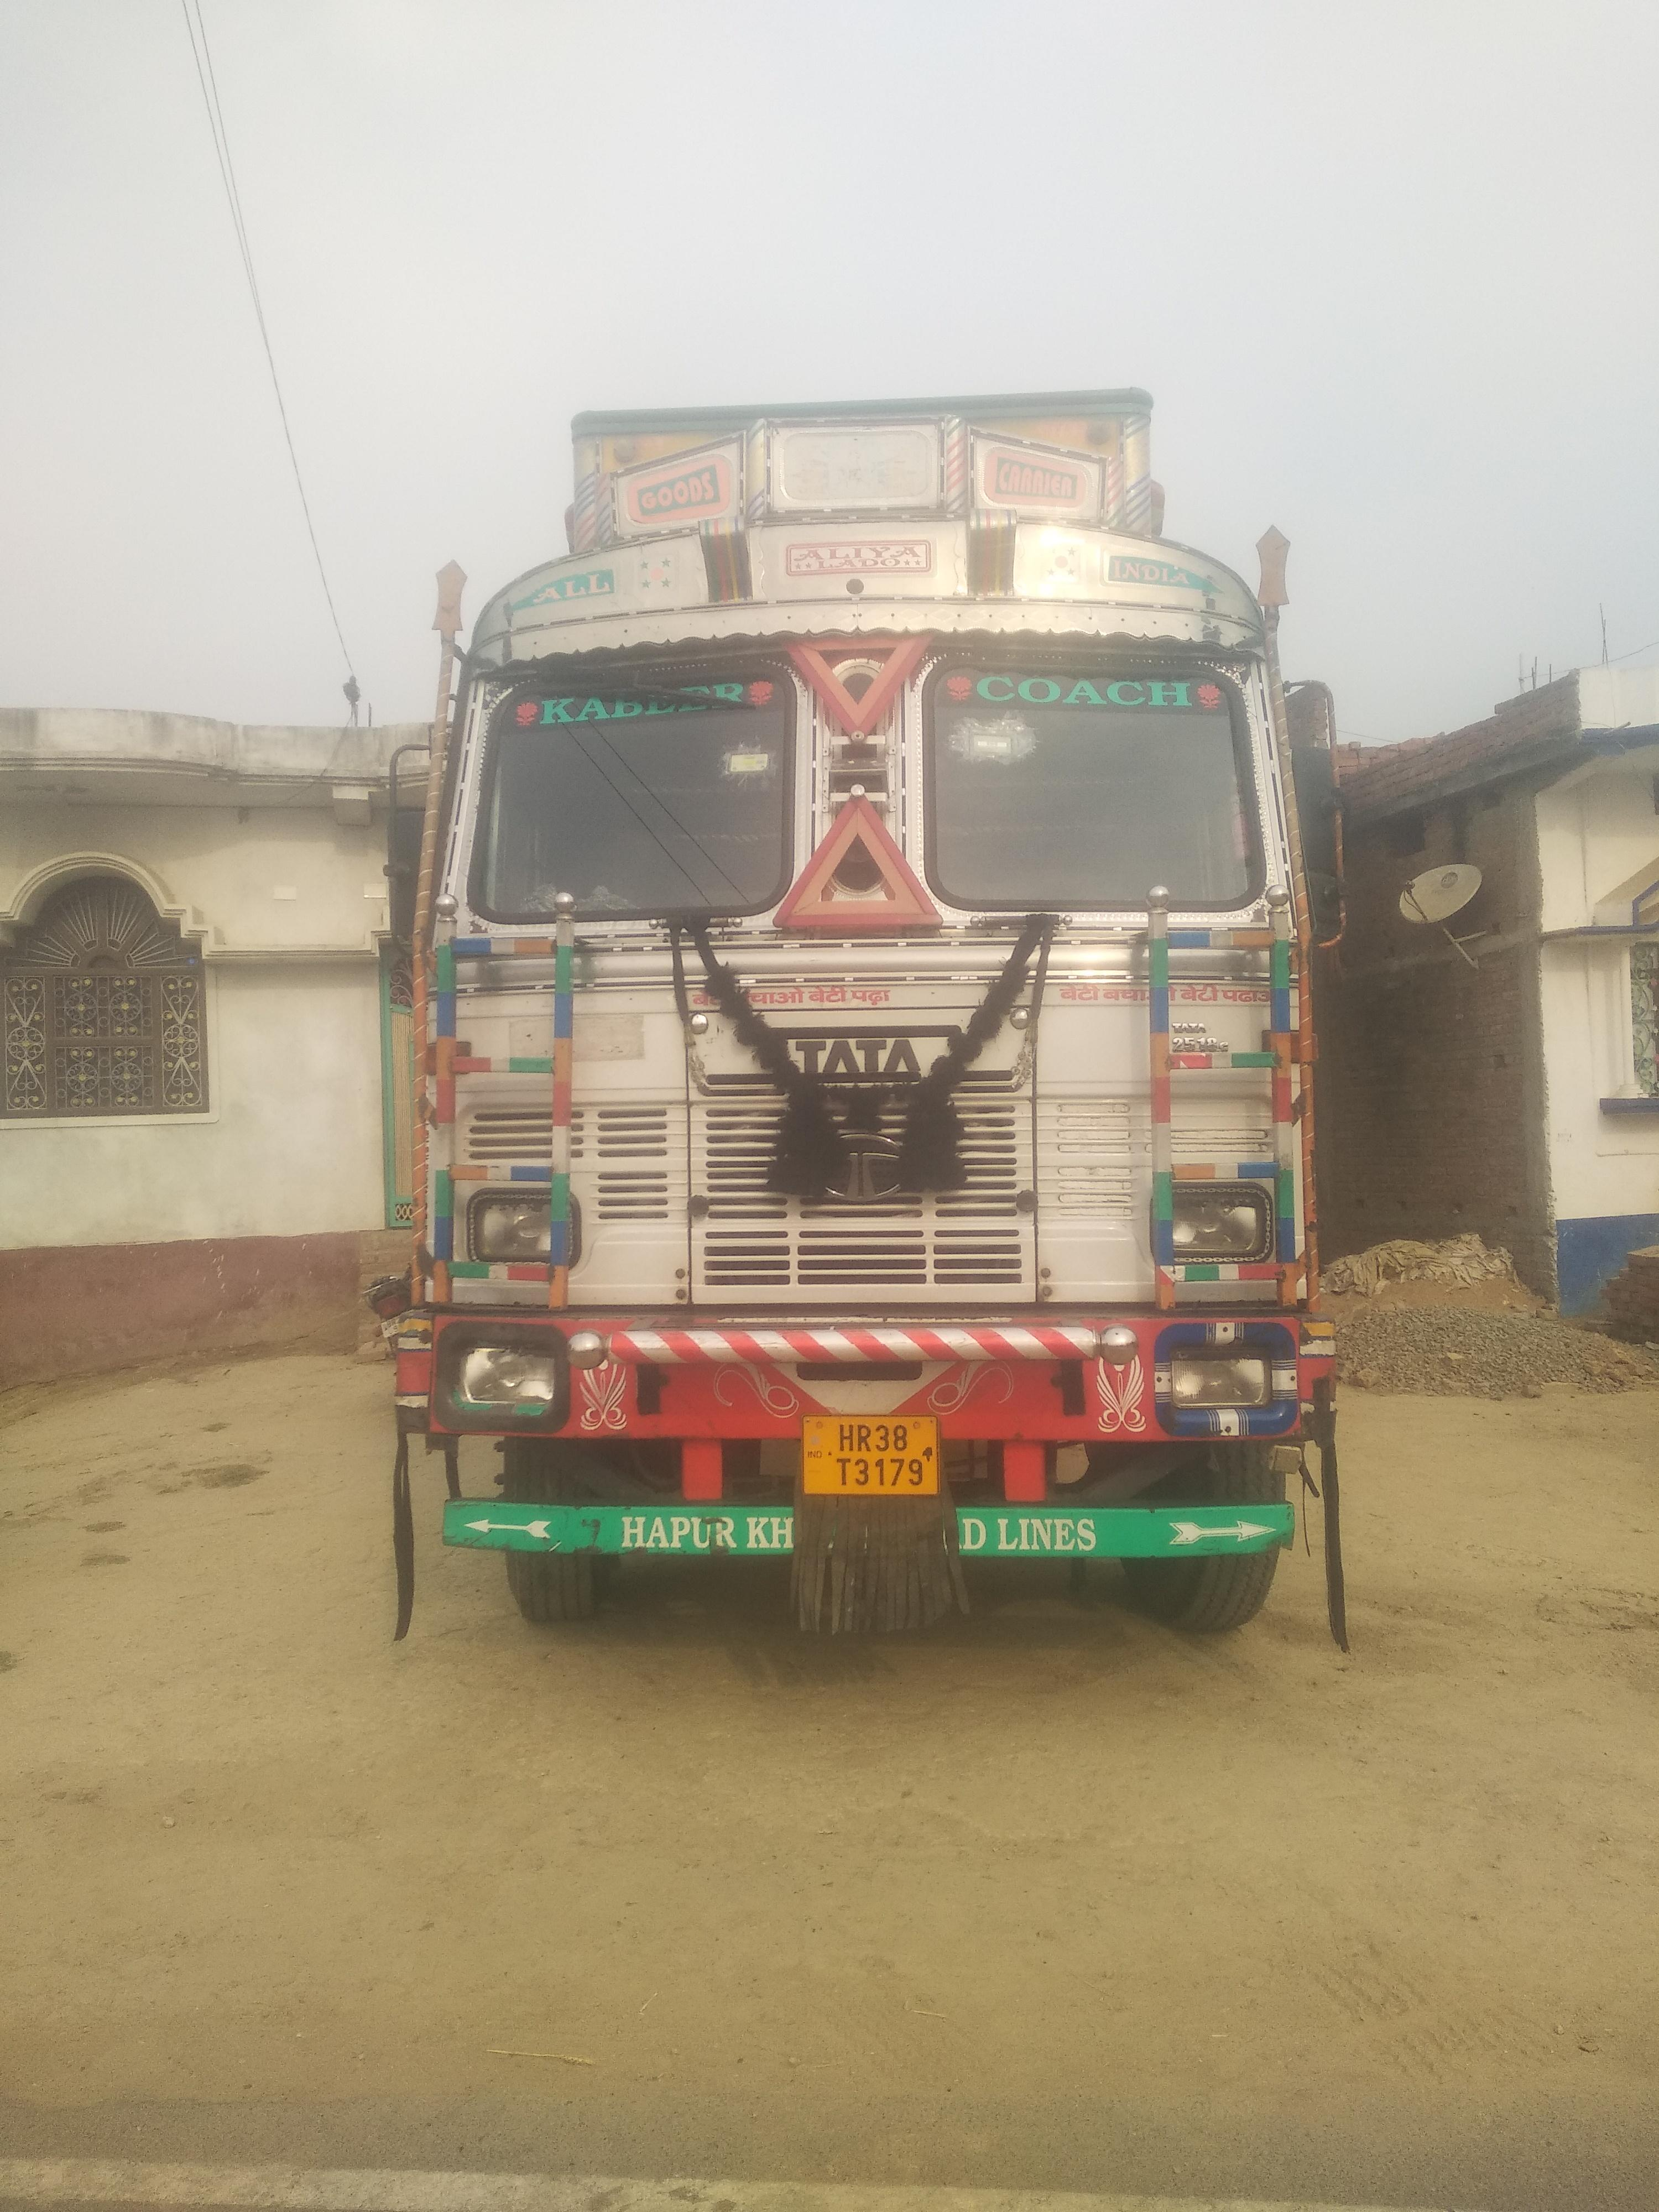Truck: (380, 455, 1335, 1655)
